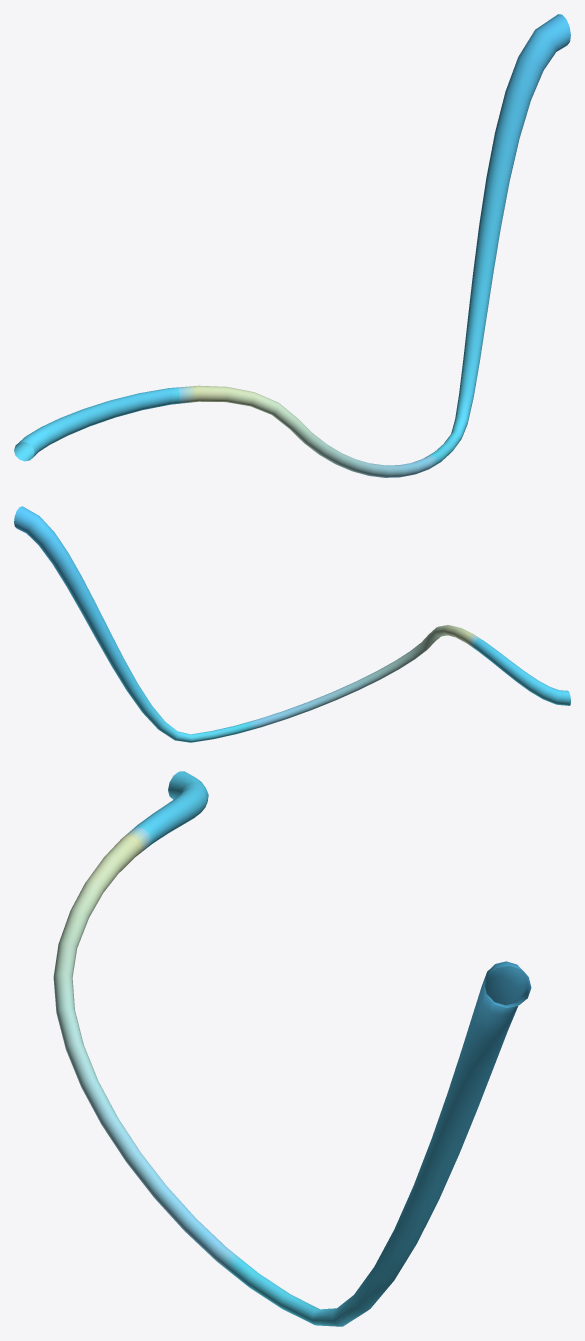
Rendered from SinopseWire.001.fbx.
The picture shows the model from 3 angles, top to bottom: view 1: azimuth 30°, elevation 25°; view 2: azimuth 150°, elevation 25°; view 3: azimuth 270°, elevation 25°; orthographic projection. The views are drawn at different scales.
Visible parts, largest first — view 1: SinopseWire.001; view 2: SinopseWire.001; view 3: SinopseWire.001.
Part boxes in pixels (x1,y1,x2,y2): SinopseWire.001: (14,14,570,477); SinopseWire.001: (14,506,570,742); SinopseWire.001: (53,771,531,1326).
Bounding box in the file's own units: 9.02 × 4.38 × 3.96.
Materials: 1 (1 with a texture image).
